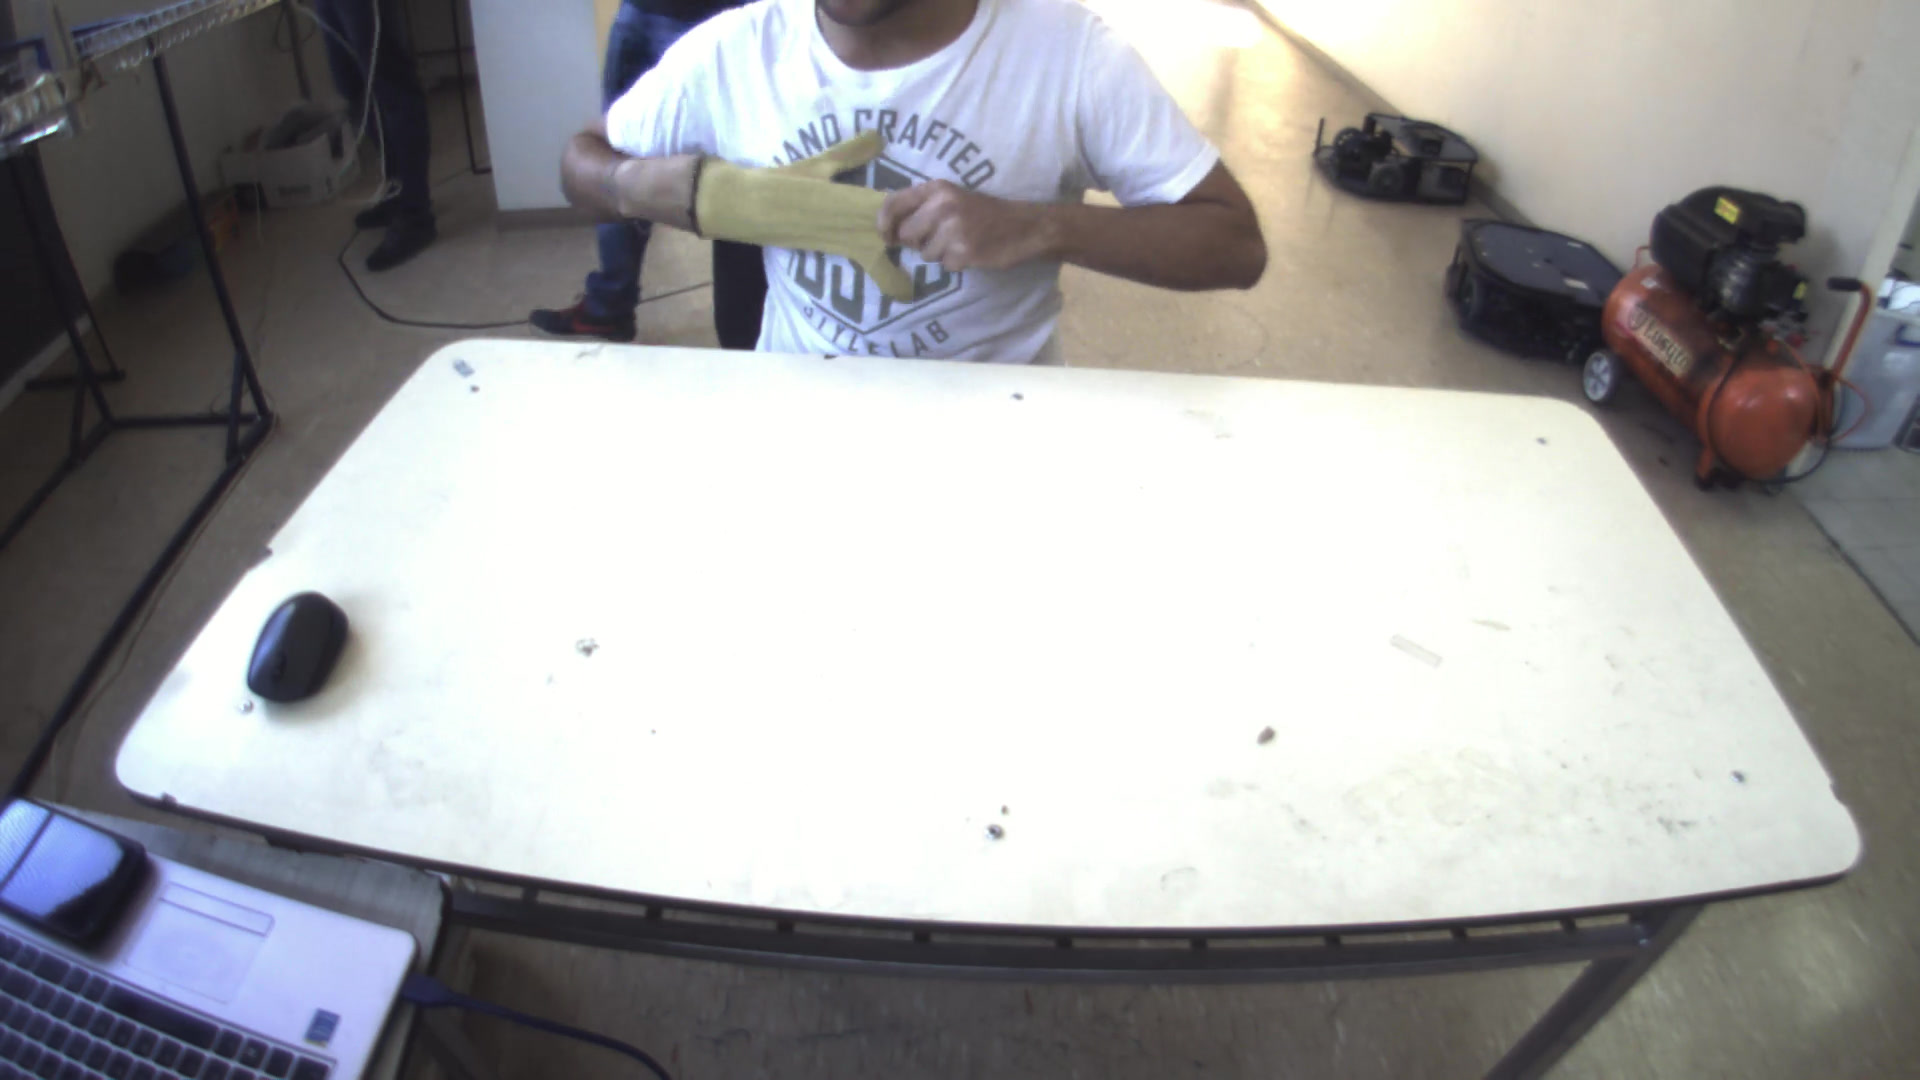hand: (880, 173, 1035, 285)
